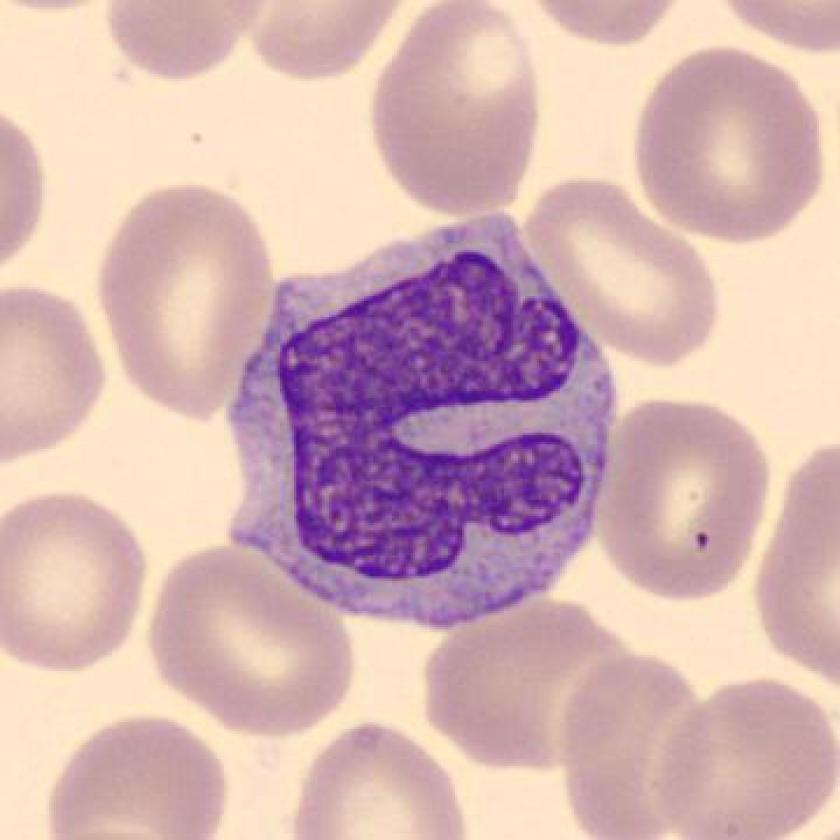monocyte: (204, 198, 631, 642)
